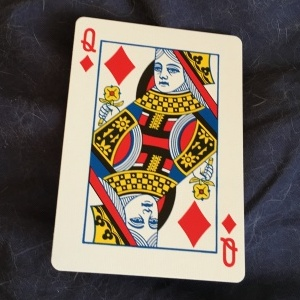card: (51, 14, 248, 286)
